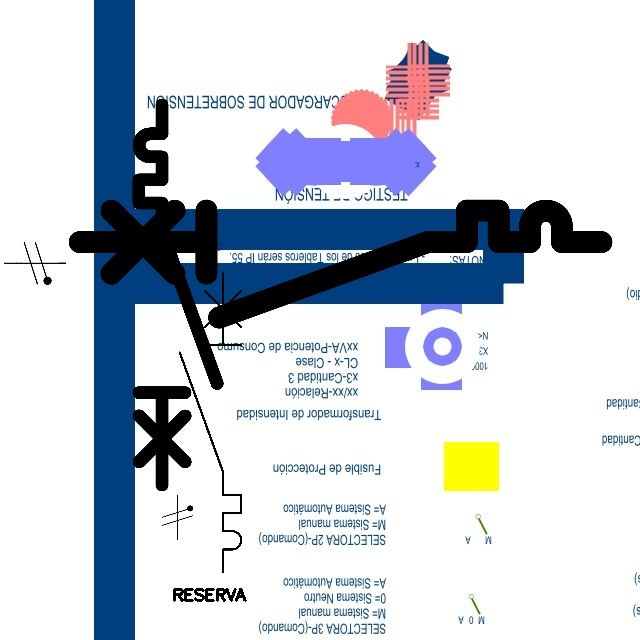interruptor_termomagnetico: (66, 197, 615, 331), (129, 95, 226, 494), (172, 264, 249, 579)
